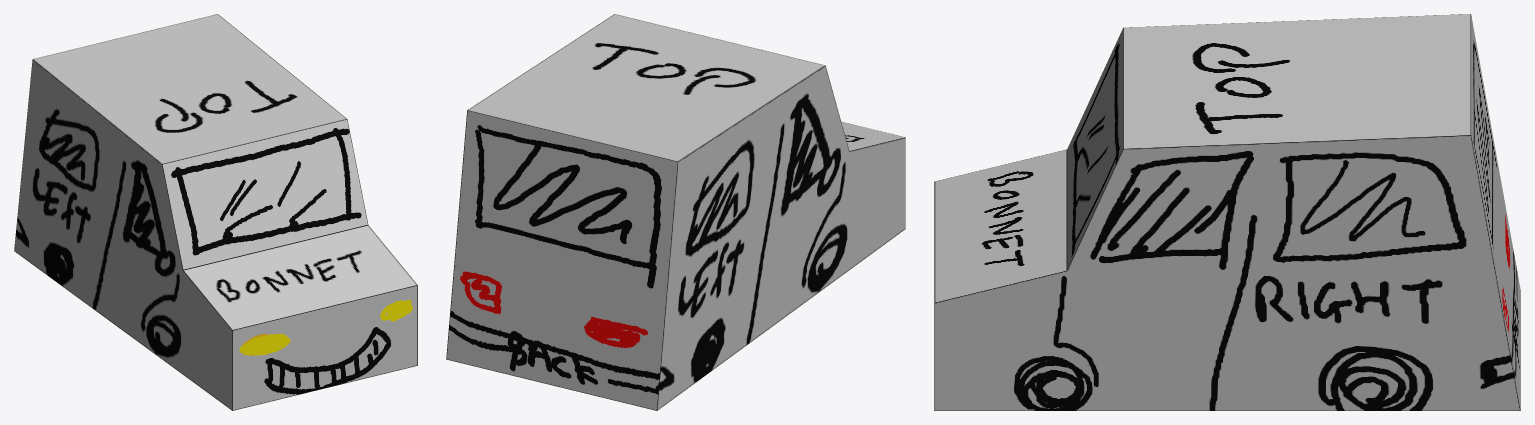
The model's file is car.fbx.
3 renders of one model, left to right at view 1: azimuth 30°, elevation 25°; view 2: azimuth 150°, elevation 25°; view 3: azimuth 270°, elevation 25°, orthographic. The views are drawn at different scales.
Parts seen in each view (by area): view 1: Cube.015; view 2: Cube.015; view 3: Cube.015.
Boxes of the visible parts, x1=… form: Cube.015: x1=14, y1=14, x2=417, y2=410; Cube.015: x1=446, y1=14, x2=905, y2=410; Cube.015: x1=934, y1=14, x2=1520, y2=410.
Size of the model in its own units: 150 by 159 by 306.
